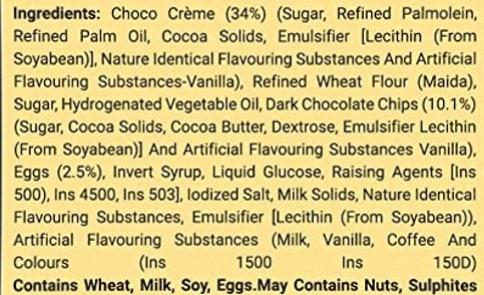ingredients: (8, 3, 484, 295)
